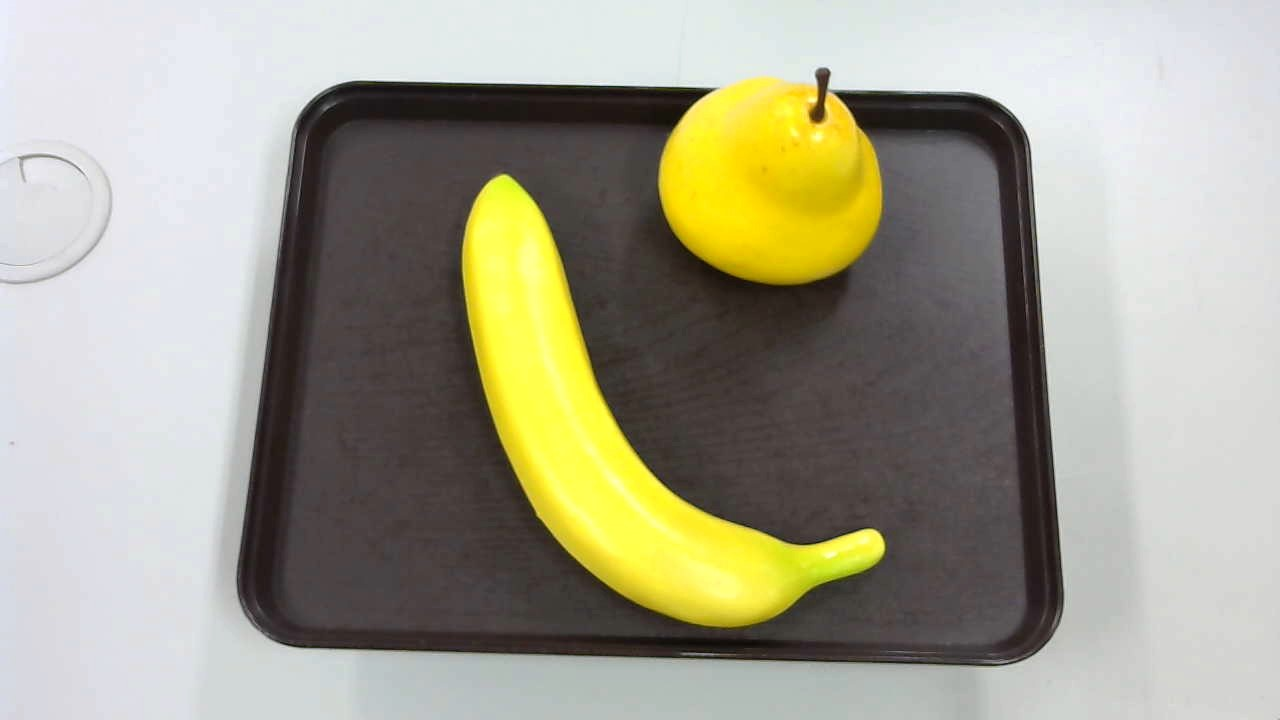banana: (449, 167, 884, 634)
yellow pear: (658, 67, 884, 288)
